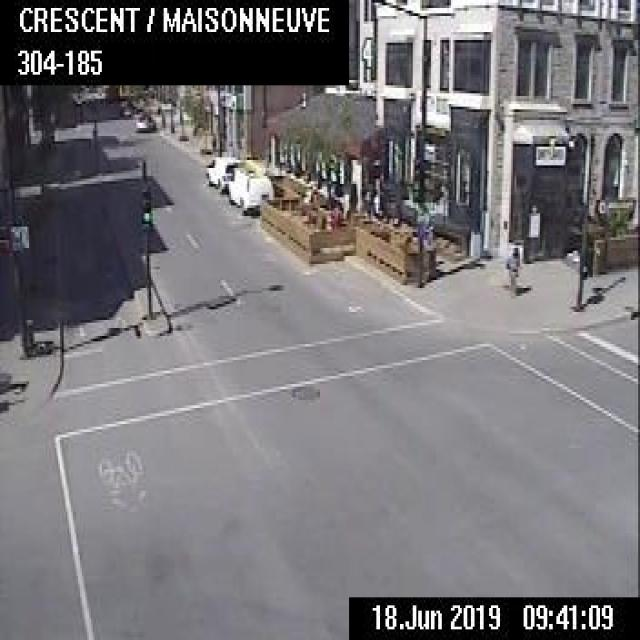pedestrian: (504, 243, 518, 293), (420, 210, 432, 243)
vehicle: (227, 164, 275, 210), (204, 154, 243, 190), (134, 112, 154, 129)
